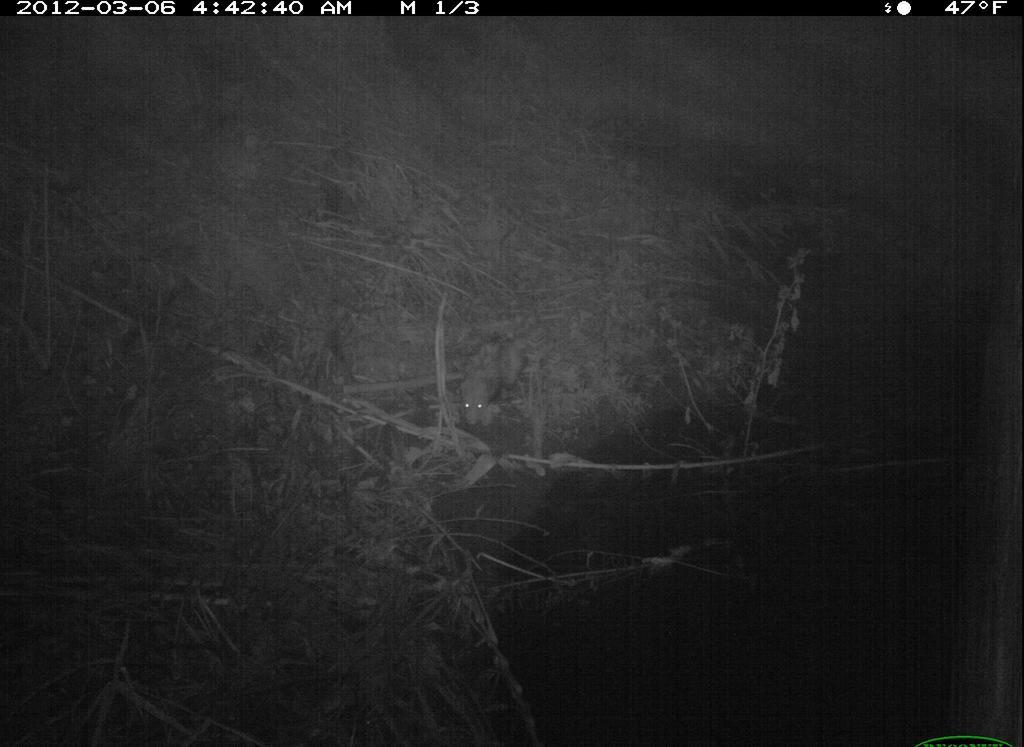opossum: (451, 315, 540, 454)
